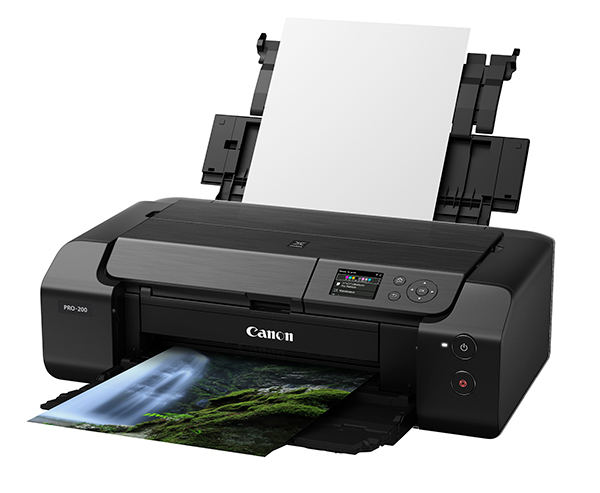printer: (36, 33, 555, 462)
